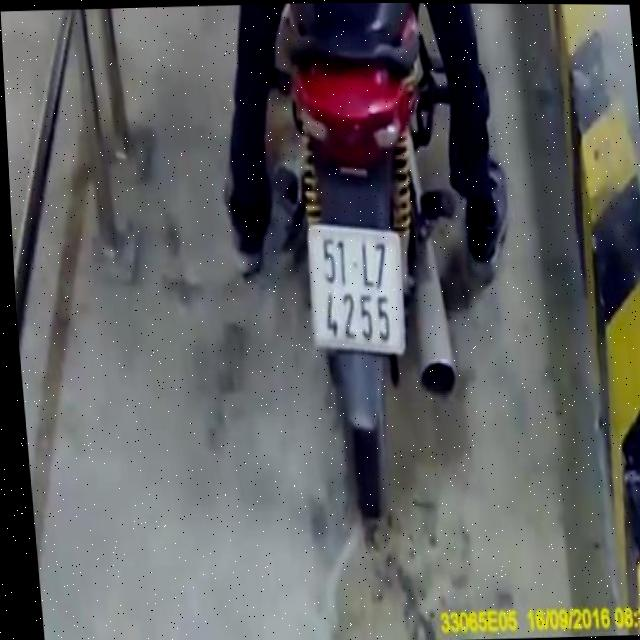motorcycle: (246, 2, 484, 535)
plate: (299, 220, 413, 361)
